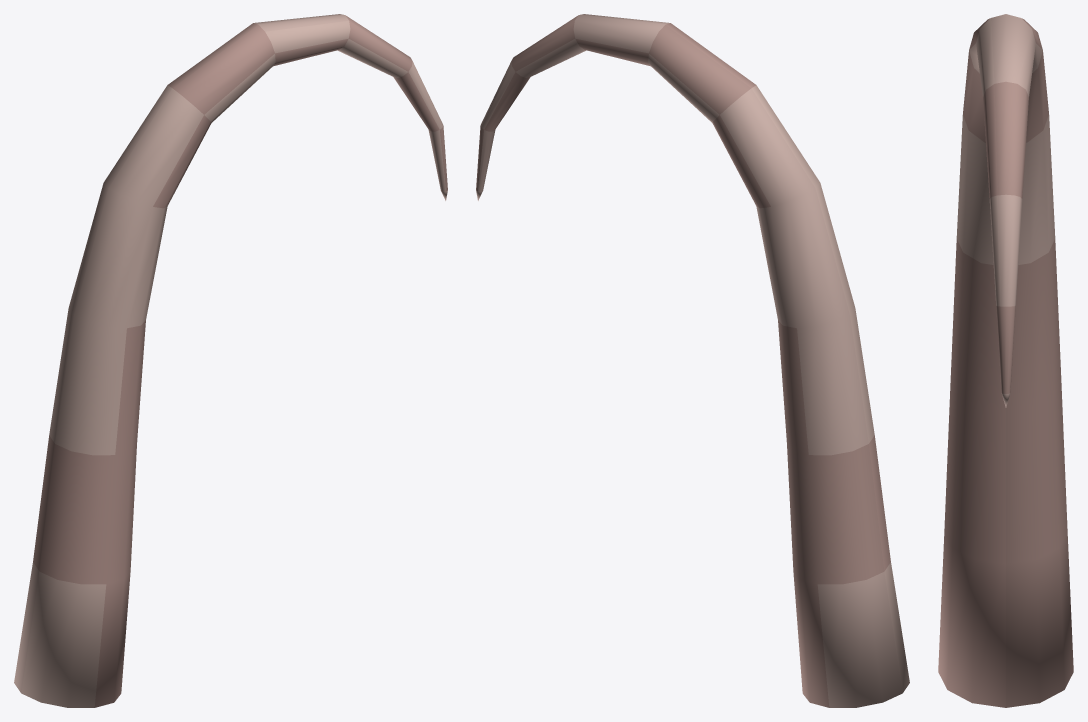
Rendered from Rat_Tail.glb.
3 views of the same model, side by side, from view 1: azimuth 30°, elevation 25°; view 2: azimuth 150°, elevation 25°; view 3: azimuth 270°, elevation 25° (orthographic). The views are drawn at different scales.
Parts seen in each view (by area): view 1: RatTail; view 2: RatTail; view 3: RatTail.
Boxes of the visible parts, x1,y1,x2,y2 form: RatTail: (14, 14, 447, 707); RatTail: (476, 14, 909, 707); RatTail: (938, 14, 1073, 707).
Size of the model in its own units: 1.5 by 2.1 by 0.33.
